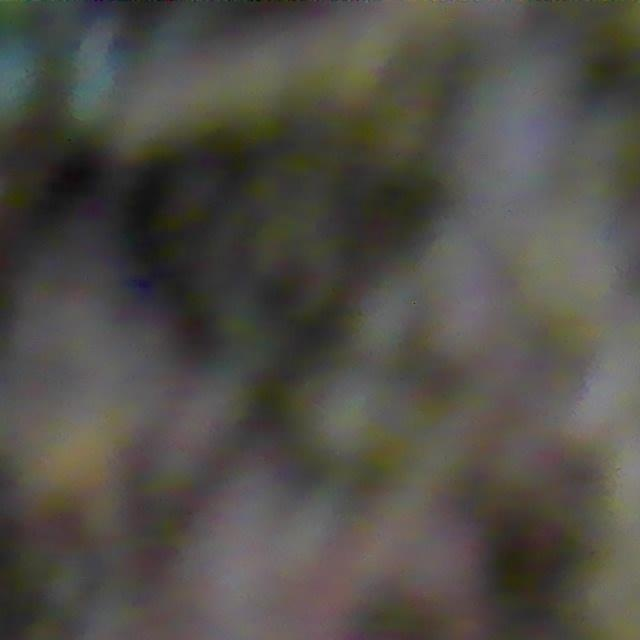SeaGrape: (0, 39, 48, 128)
